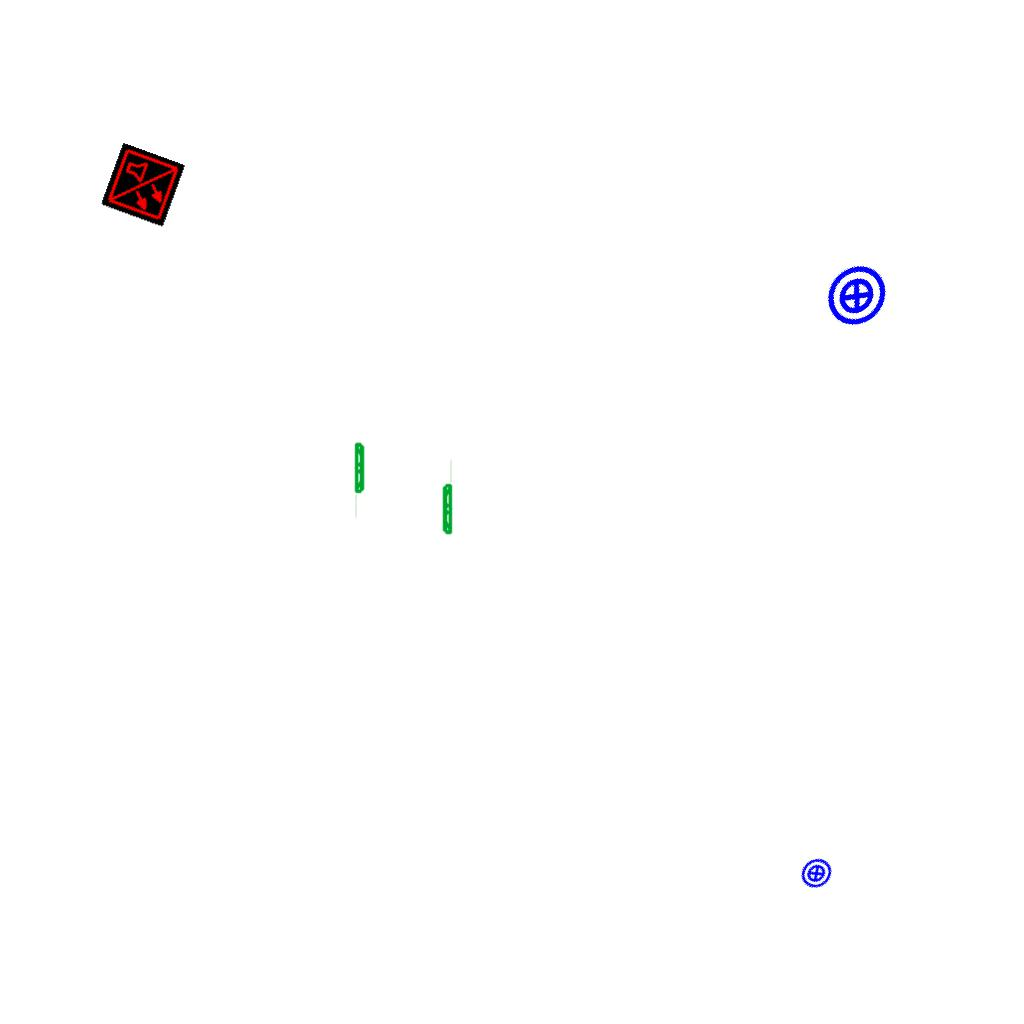OKW_Multisensormelder_(Kombination_optischer_Rauch-Kahlenmonoxid_Waerme-Melder): (100, 142, 186, 228)
Sicherheitsleuchte_Wandeinbau: (354, 441, 366, 520), (441, 457, 453, 536)
Taster_beleuchtet: (810, 249, 904, 343), (793, 850, 840, 897)
